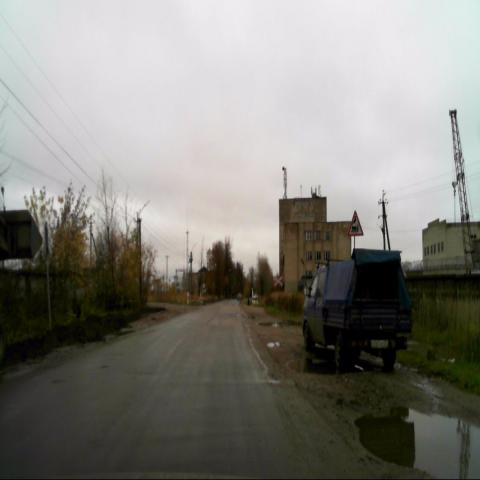1_2: (347, 209, 364, 237)
